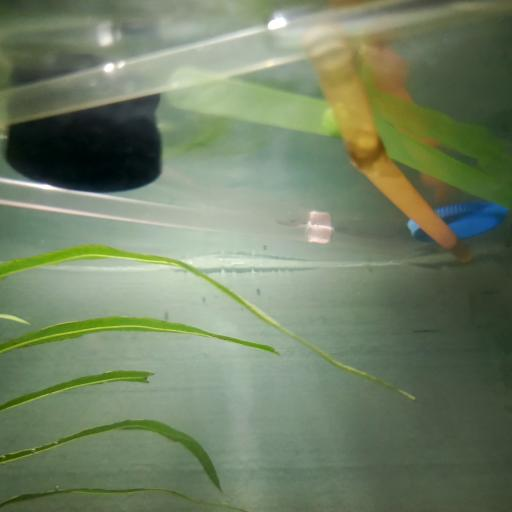bottle_cap: (10, 109, 163, 192), (405, 206, 505, 245)
plastic_straw: (0, 0, 512, 124), (166, 60, 508, 206), (310, 39, 474, 266), (0, 174, 418, 256)
